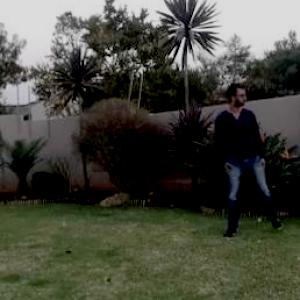follow: (217, 78, 263, 236)
